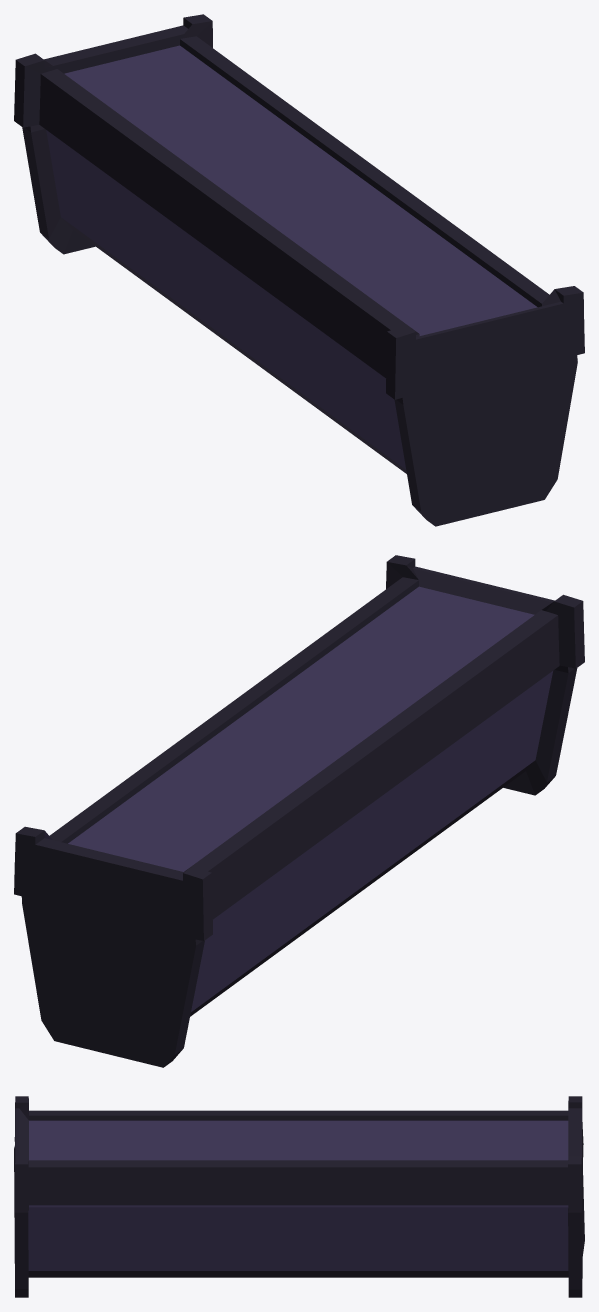
File: Conveyer_Middle.fbx
The picture shows the model from 3 angles, top to bottom: view 1: azimuth 30°, elevation 25°; view 2: azimuth 150°, elevation 25°; view 3: azimuth 270°, elevation 25°; orthographic projection. The views are drawn at different scales.
Parts seen in each view (by area): view 1: Conveyar_Middle; view 2: Conveyar_Middle; view 3: Conveyar_Middle.
Part boxes in pixels (x1,y1,x2,y2): Conveyar_Middle: (14,14,584,526); Conveyar_Middle: (14,555,584,1067); Conveyar_Middle: (14,1096,584,1297).
Size of the model in its own units: 1.21 by 1.21 by 4.2.
